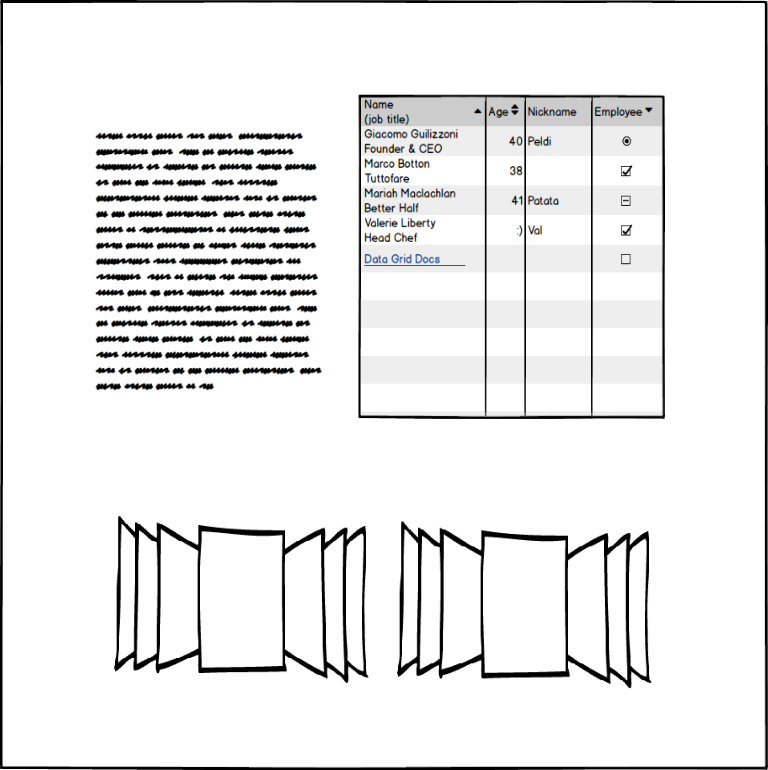p: (84, 126, 332, 401)
slideshow: (109, 506, 373, 691), (389, 514, 657, 693)
table: (352, 86, 671, 428)
